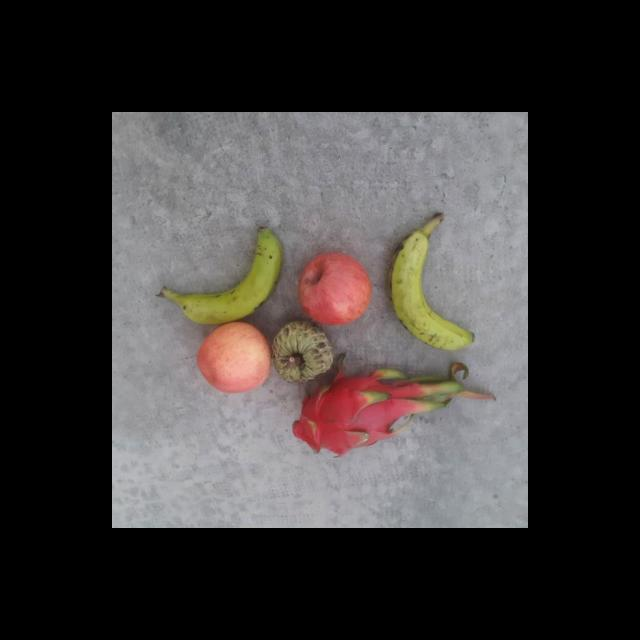Sakya fruit: (268, 318, 334, 386)
apple: (300, 251, 372, 327), (196, 319, 270, 392)
banana: (157, 224, 290, 326), (387, 206, 475, 354)
pitaya: (292, 378, 398, 456)
